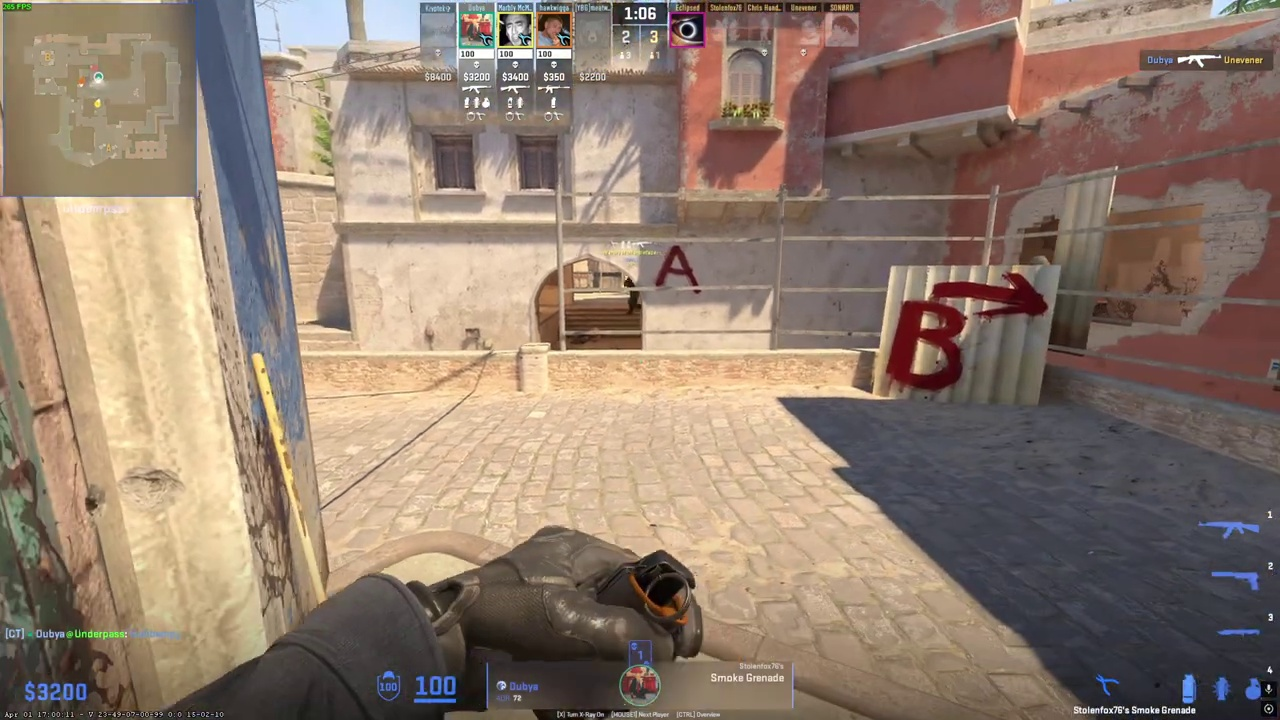Terrorist: (622, 274, 641, 315)
